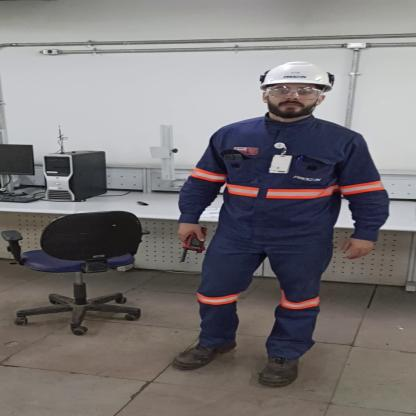Capacete: (255, 60, 337, 91)
